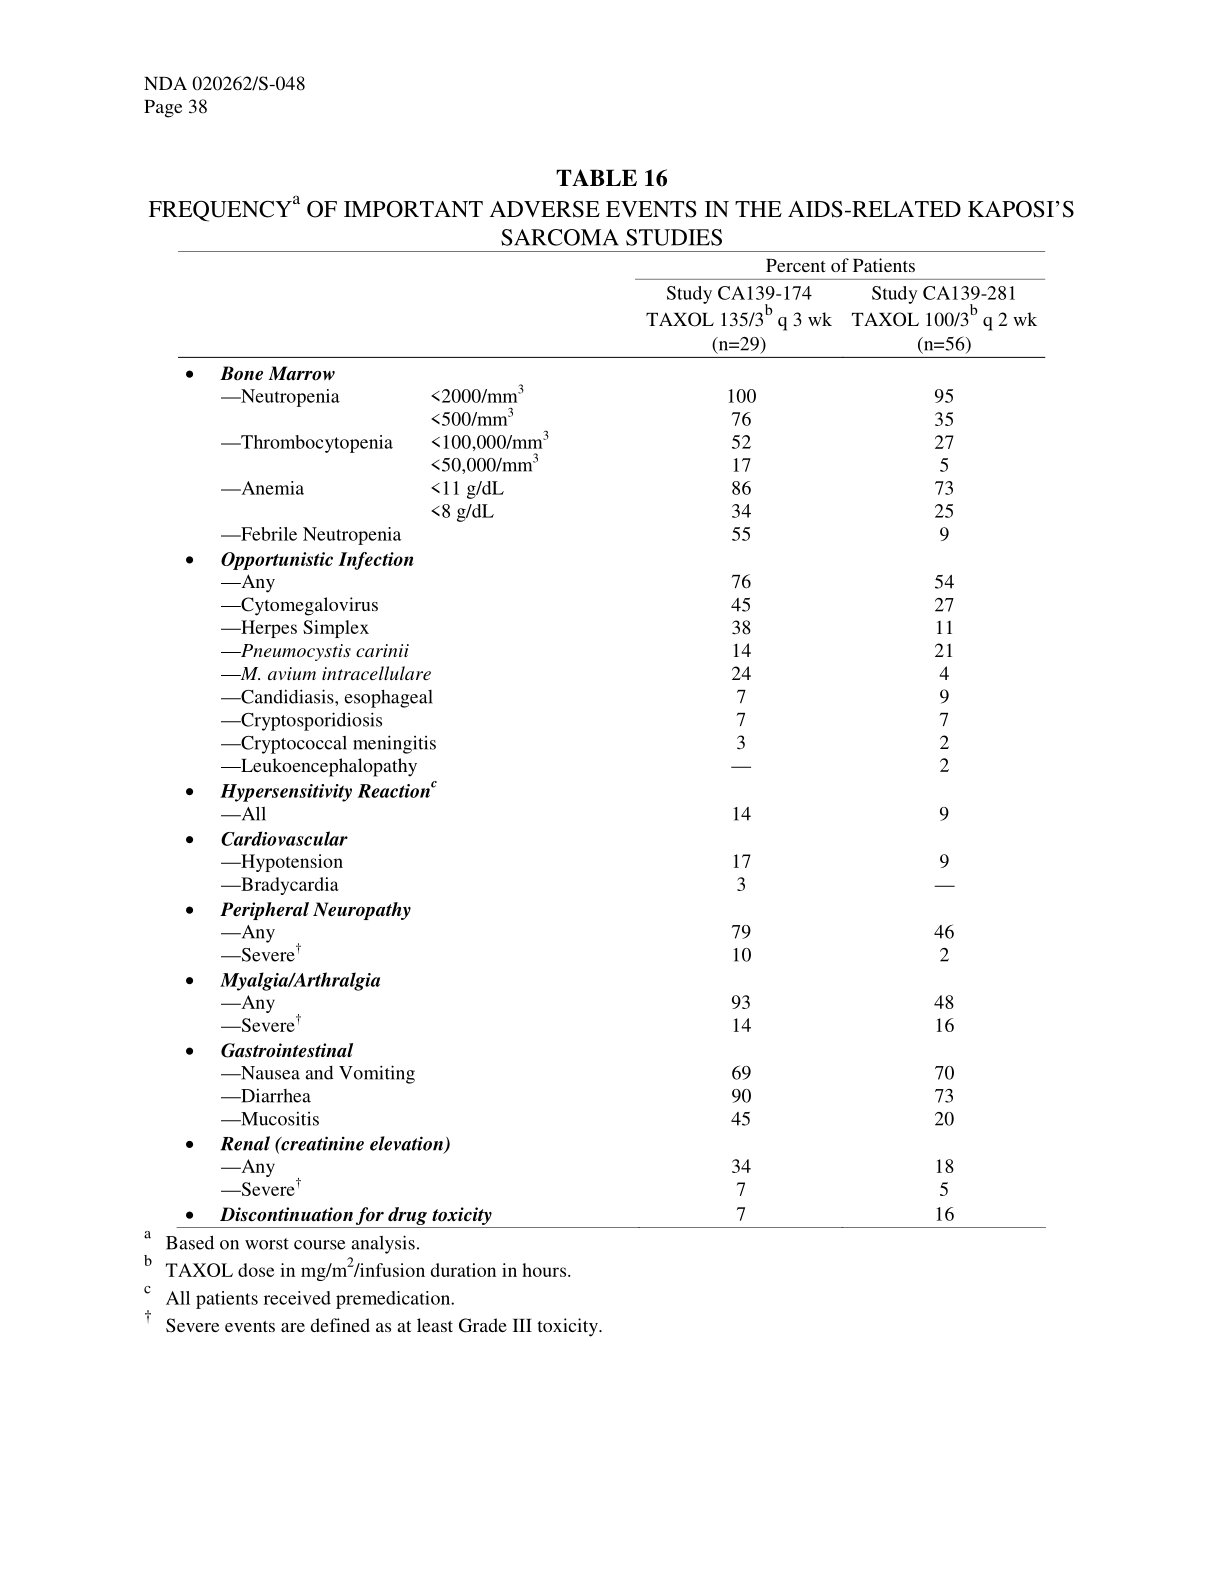partial_lined_merged_cells: (177, 249, 1044, 1229)
